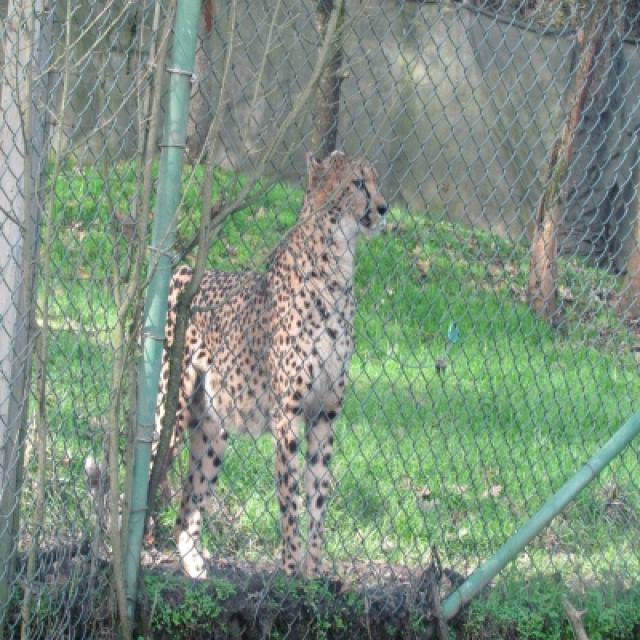Cheetah: (176, 150, 389, 581)
